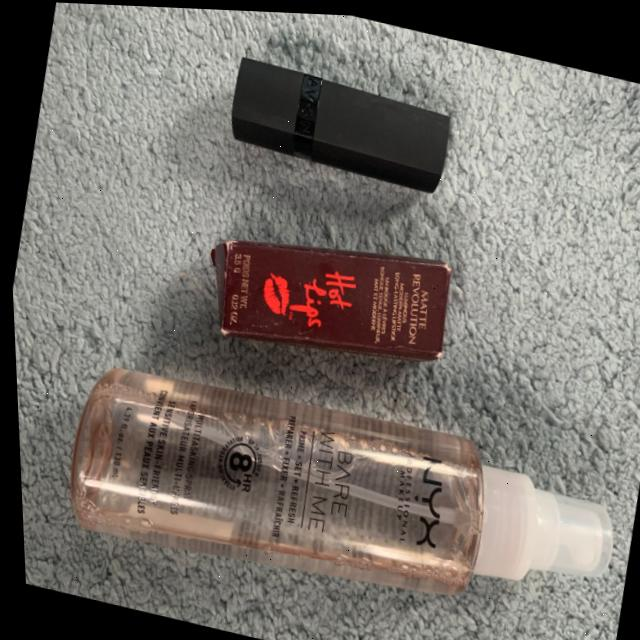lip stick: (181, 191, 470, 396), (213, 35, 471, 206)
setting spray: (36, 334, 635, 640)
